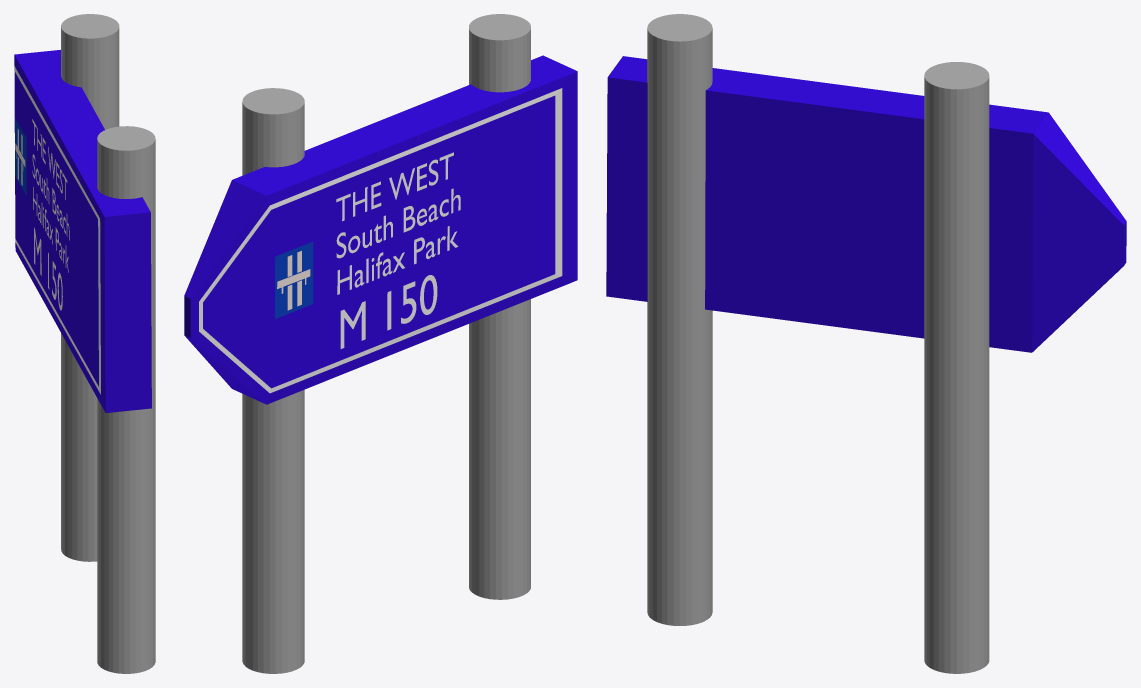
The model's file is ChevronLeftNorthbyRoundabout2.fbx.
3 views of the same model, side by side, from view 1: azimuth 30°, elevation 25°; view 2: azimuth 150°, elevation 25°; view 3: azimuth 270°, elevation 25° (orthographic). The views are drawn at different scales.
Visible parts, largest first — view 1: Cube.030, Cylinder.002, Cylinder.001, Text.007, Plane, Text.008; view 2: Cube.030, Cylinder.002, Cylinder.001, Text.007, Plane, Text.008; view 3: Cube.030, Cylinder.001, Cylinder.002.
Part boxes in pixels (bbox=[...]): Cube.030: bbox=[14, 50, 151, 412]; Cylinder.002: bbox=[97, 126, 155, 673]; Cylinder.001: bbox=[61, 14, 119, 561]; Text.007: bbox=[32, 119, 69, 272]; Plane: bbox=[15, 118, 26, 195]; Text.008: bbox=[34, 227, 62, 310]; Cube.030: bbox=[184, 55, 577, 404]; Cylinder.002: bbox=[469, 14, 530, 599]; Cylinder.001: bbox=[242, 88, 304, 673]; Text.007: bbox=[336, 152, 460, 294]; Plane: bbox=[275, 241, 313, 318]; Text.008: bbox=[340, 275, 437, 348]; Cube.030: bbox=[606, 56, 1126, 352]; Cylinder.001: bbox=[924, 62, 989, 673]; Cylinder.002: bbox=[647, 14, 712, 625].
Size of the model in its own units: 120 by 374 by 302.
